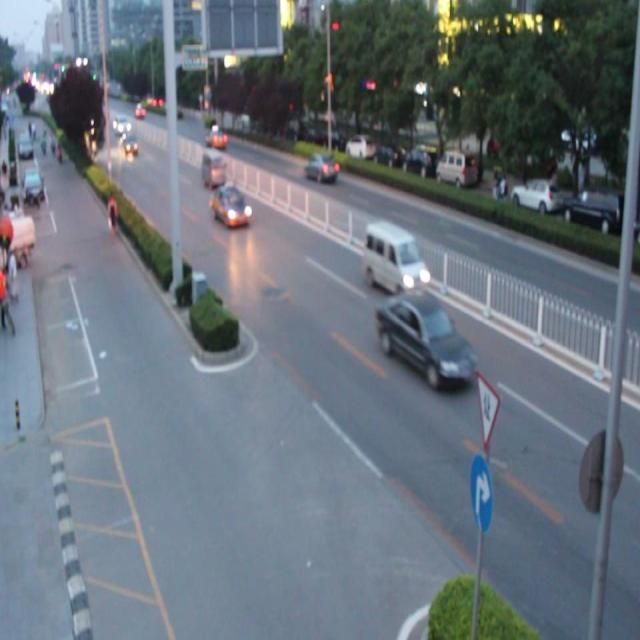car: (377, 290, 475, 390), (211, 184, 249, 227), (304, 152, 336, 180), (205, 125, 226, 148)
truck: (364, 220, 426, 293), (201, 148, 226, 186)
